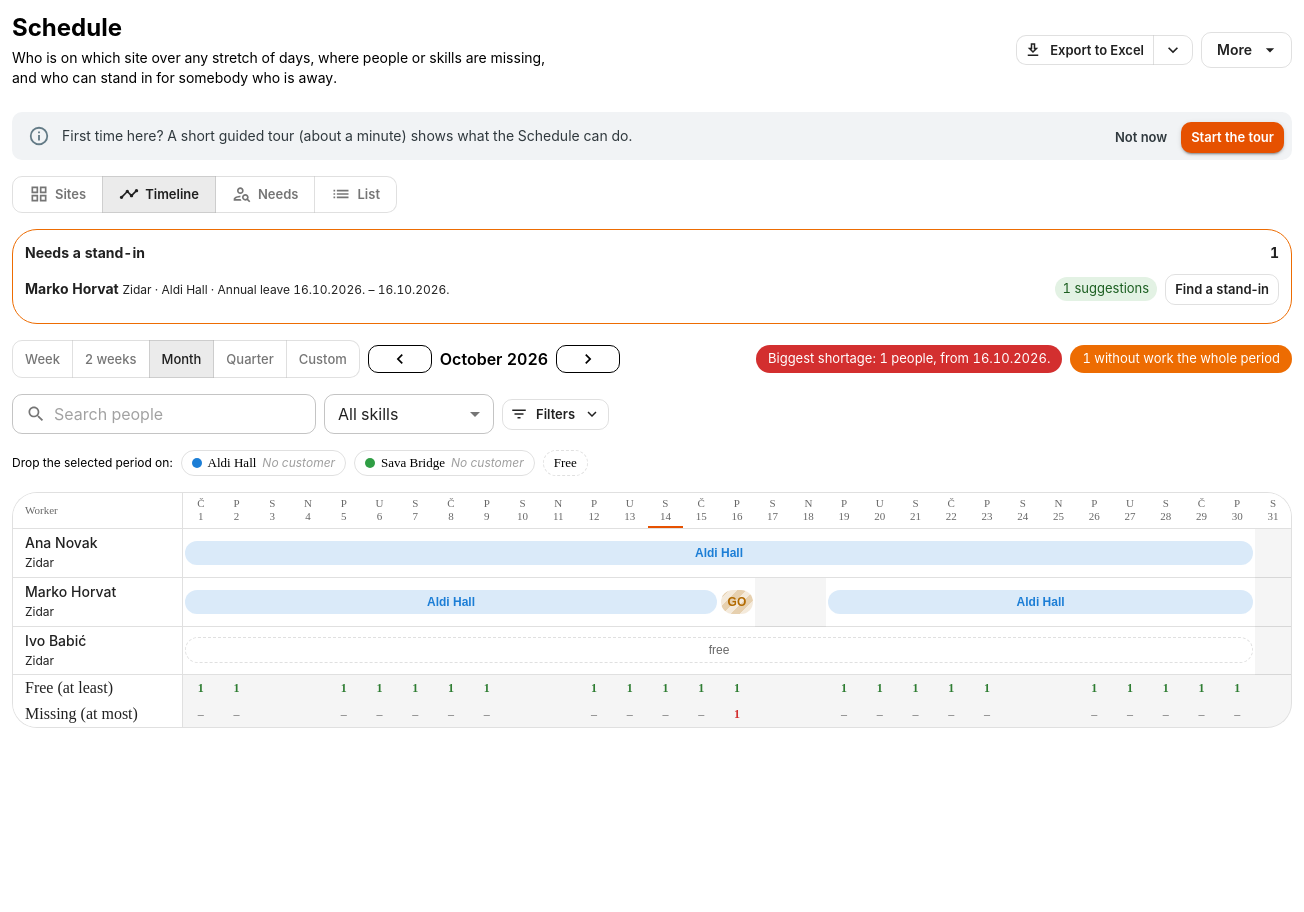
Test: PlanningPage › does not offer the tour again once it has been seen
Click the button "Not now" at {"x": 1141, "y": 137}, box [1109, 122, 1173, 153]
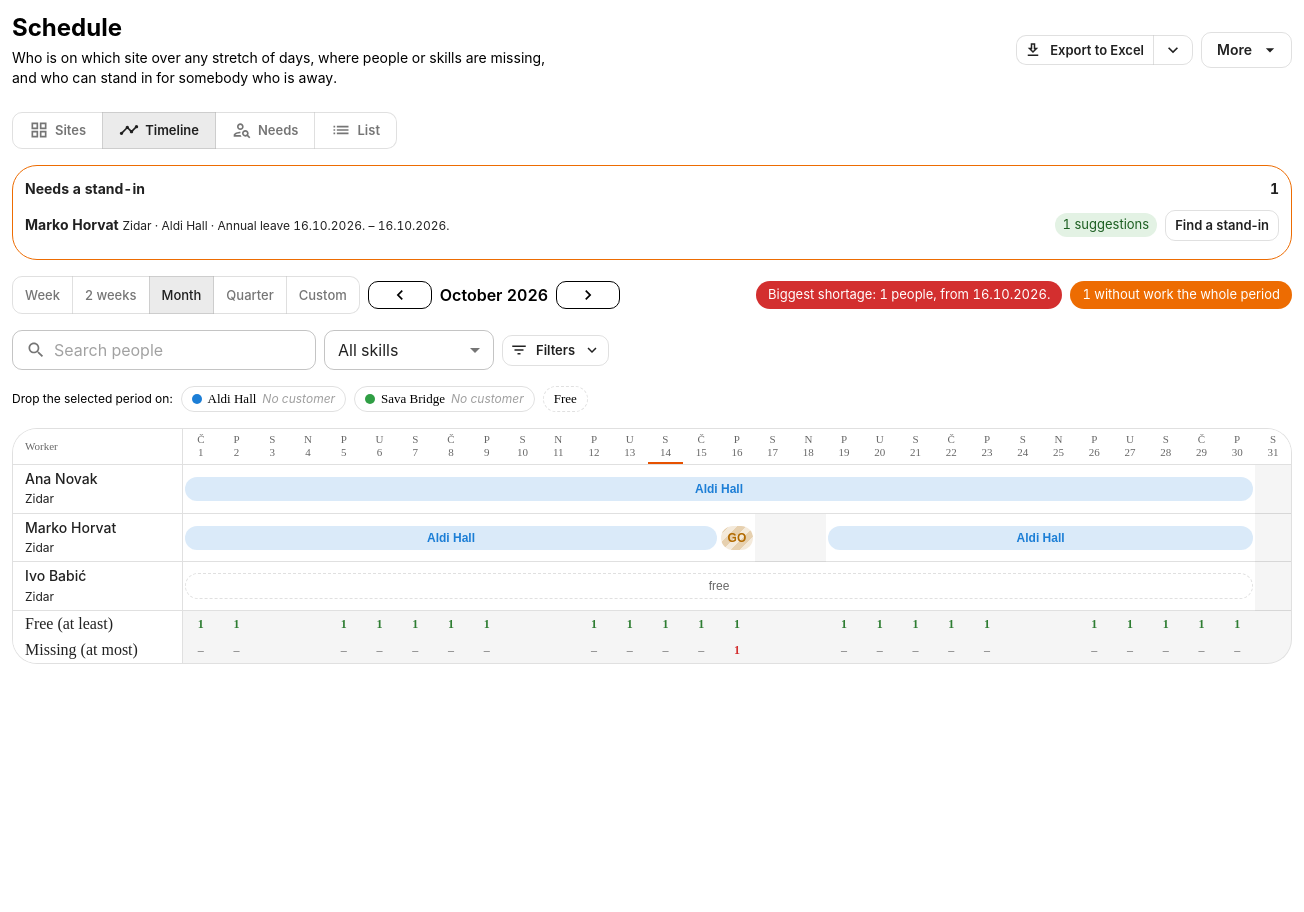
Expected: the button "Start the tour" is gone
The guide is kept behind the header's More menu, one tap away.
Click the button "More" at {"x": 1246, "y": 50}, box [1201, 32, 1292, 68]
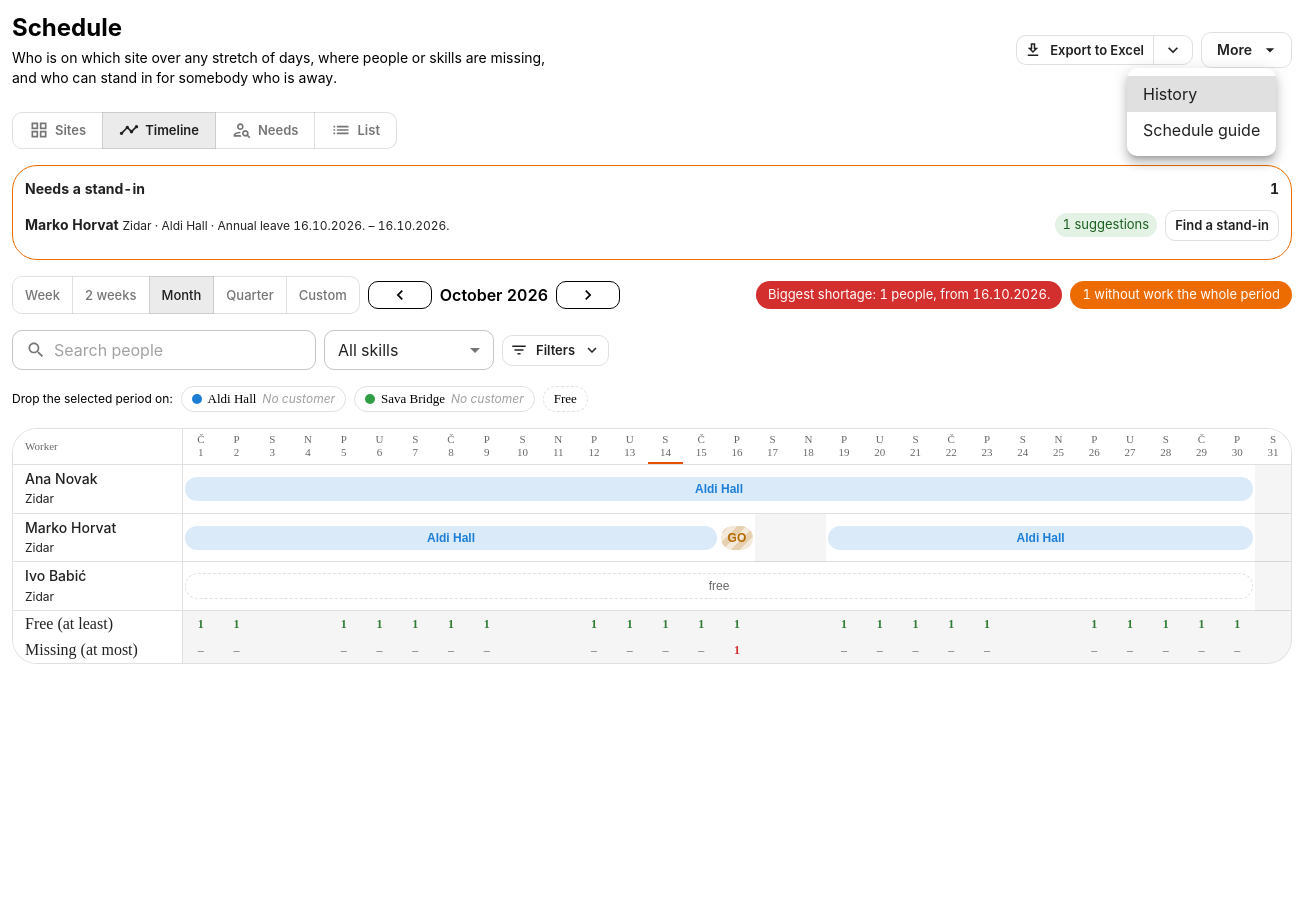
Expected: the menu item "Schedule guide" is shown, [1143, 120, 1260, 140]
